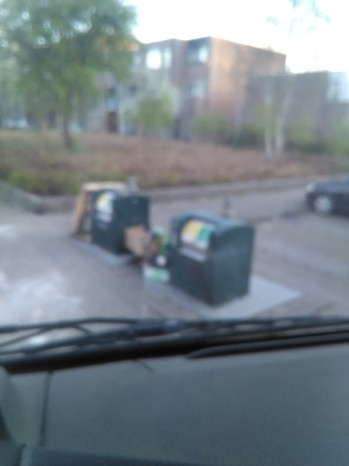Container: (174, 214, 259, 304), (92, 187, 137, 250)
Rest: (70, 184, 88, 240), (138, 229, 157, 279), (151, 226, 166, 272)
